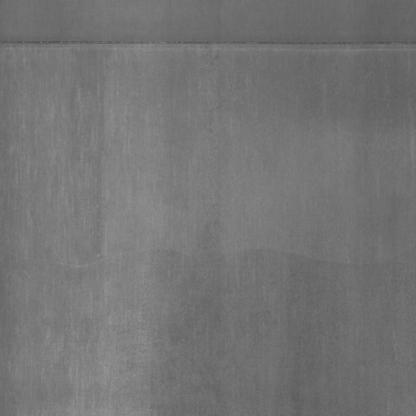welding_line: (0, 26, 416, 60)
